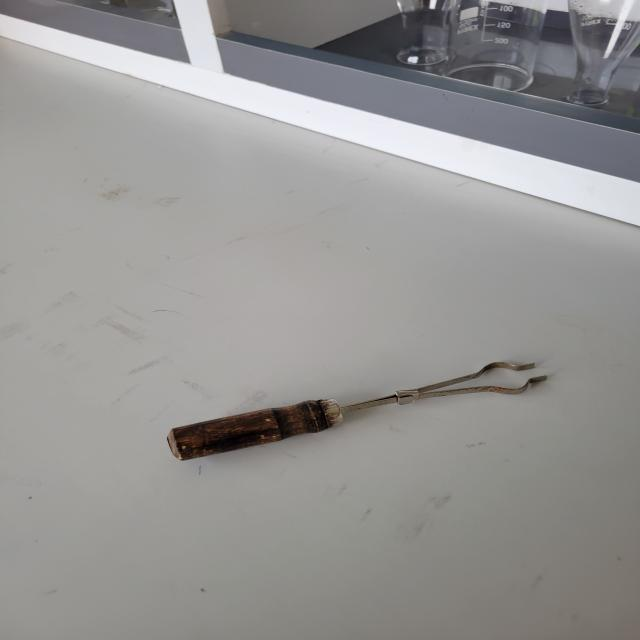TestTube_Holder: (147, 268, 580, 534)
